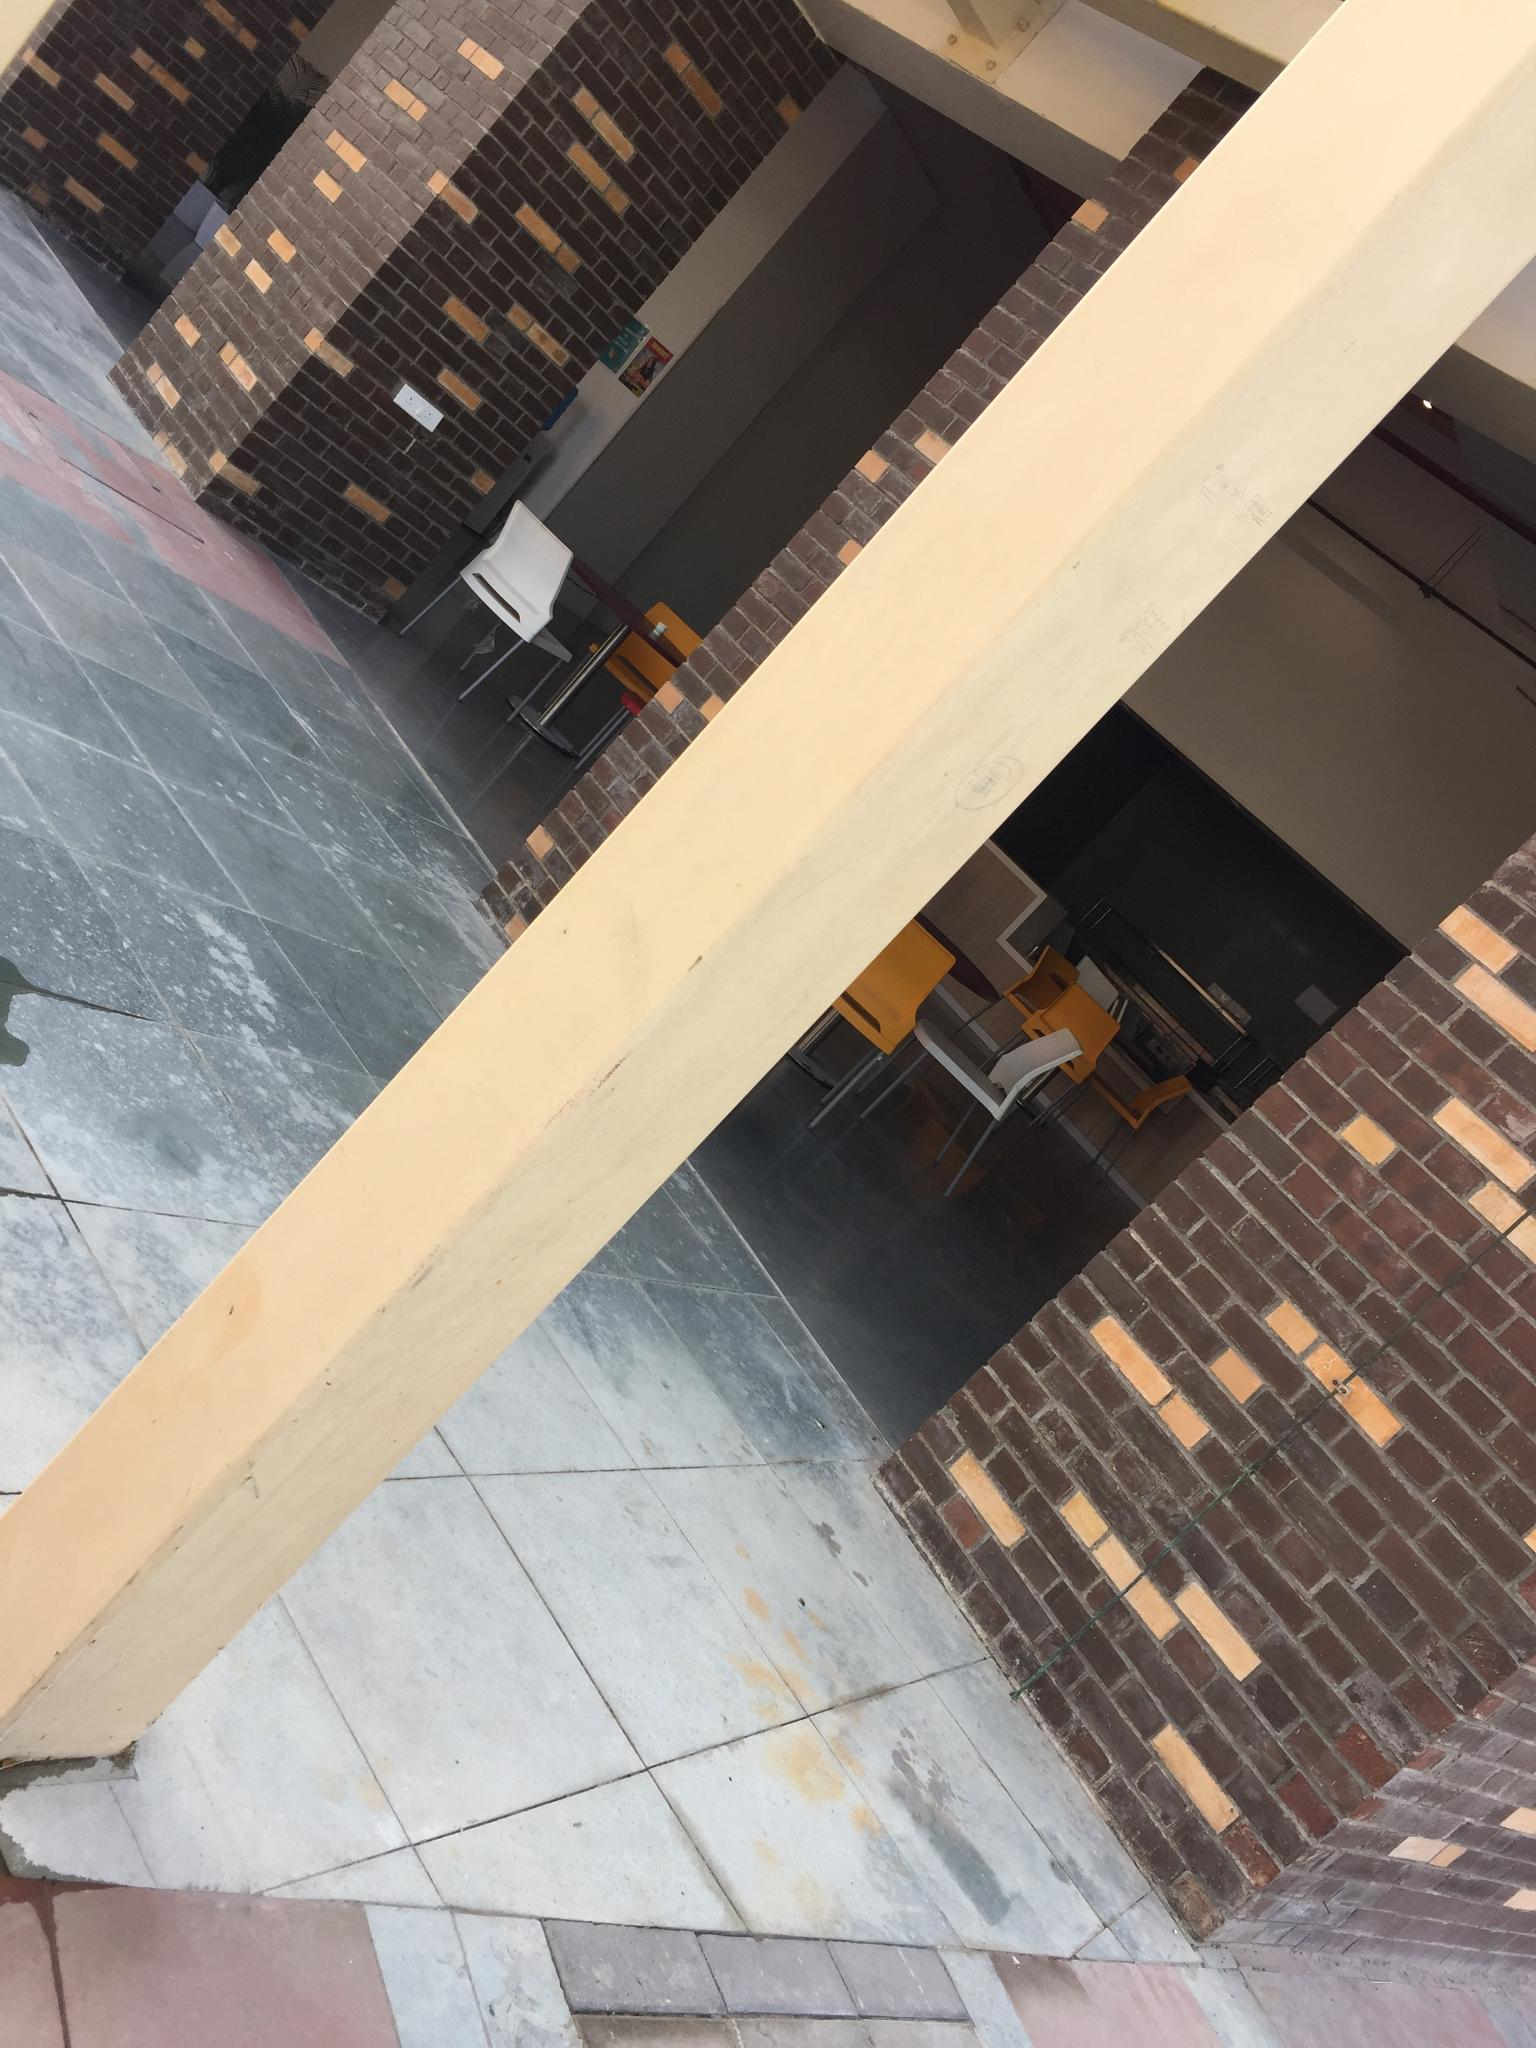chair: (787, 914, 957, 1129), (432, 484, 565, 745), (913, 1021, 1076, 1227), (600, 581, 703, 779), (1010, 972, 1118, 1126), (960, 939, 1100, 1053), (1057, 1061, 1202, 1169)
